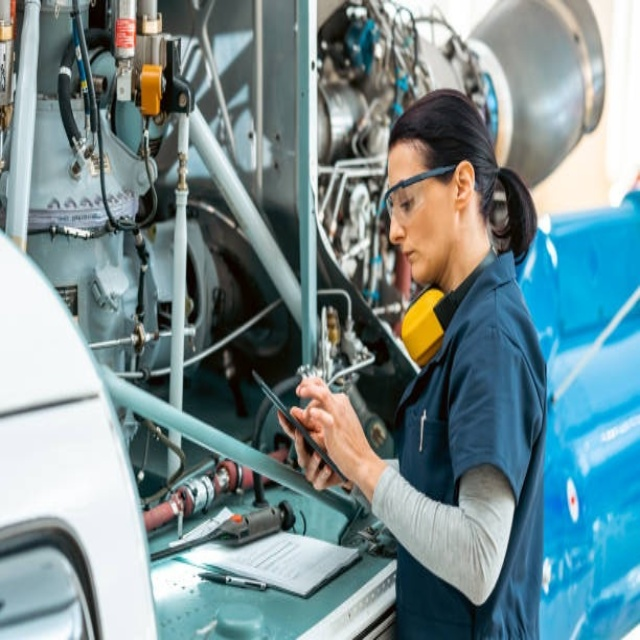Gafas: (381, 164, 466, 229)
Sin_guantes: (295, 373, 372, 474), (276, 400, 348, 489)
Sin_mascara: (399, 240, 430, 285)
